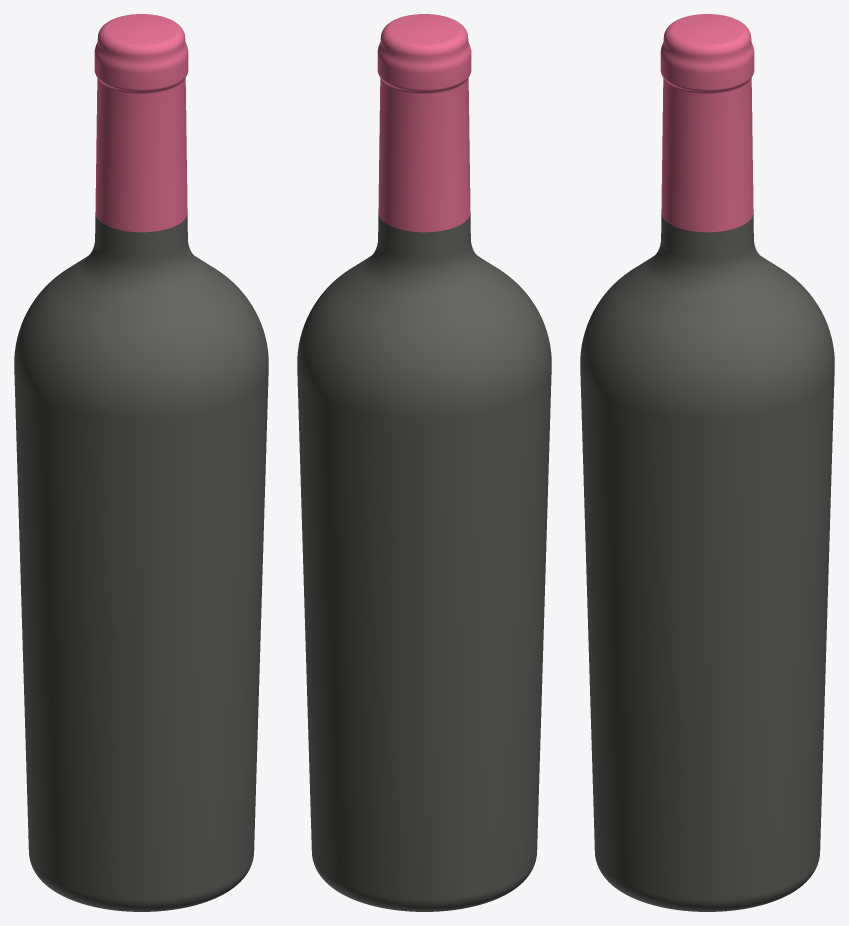
File: sutil.glb
The picture shows the model from 3 angles, left to right: view 1: azimuth 30°, elevation 25°; view 2: azimuth 150°, elevation 25°; view 3: azimuth 270°, elevation 25°; orthographic projection.
Bounding box in the file's own units: 0.366 × 1.34 × 0.366.
